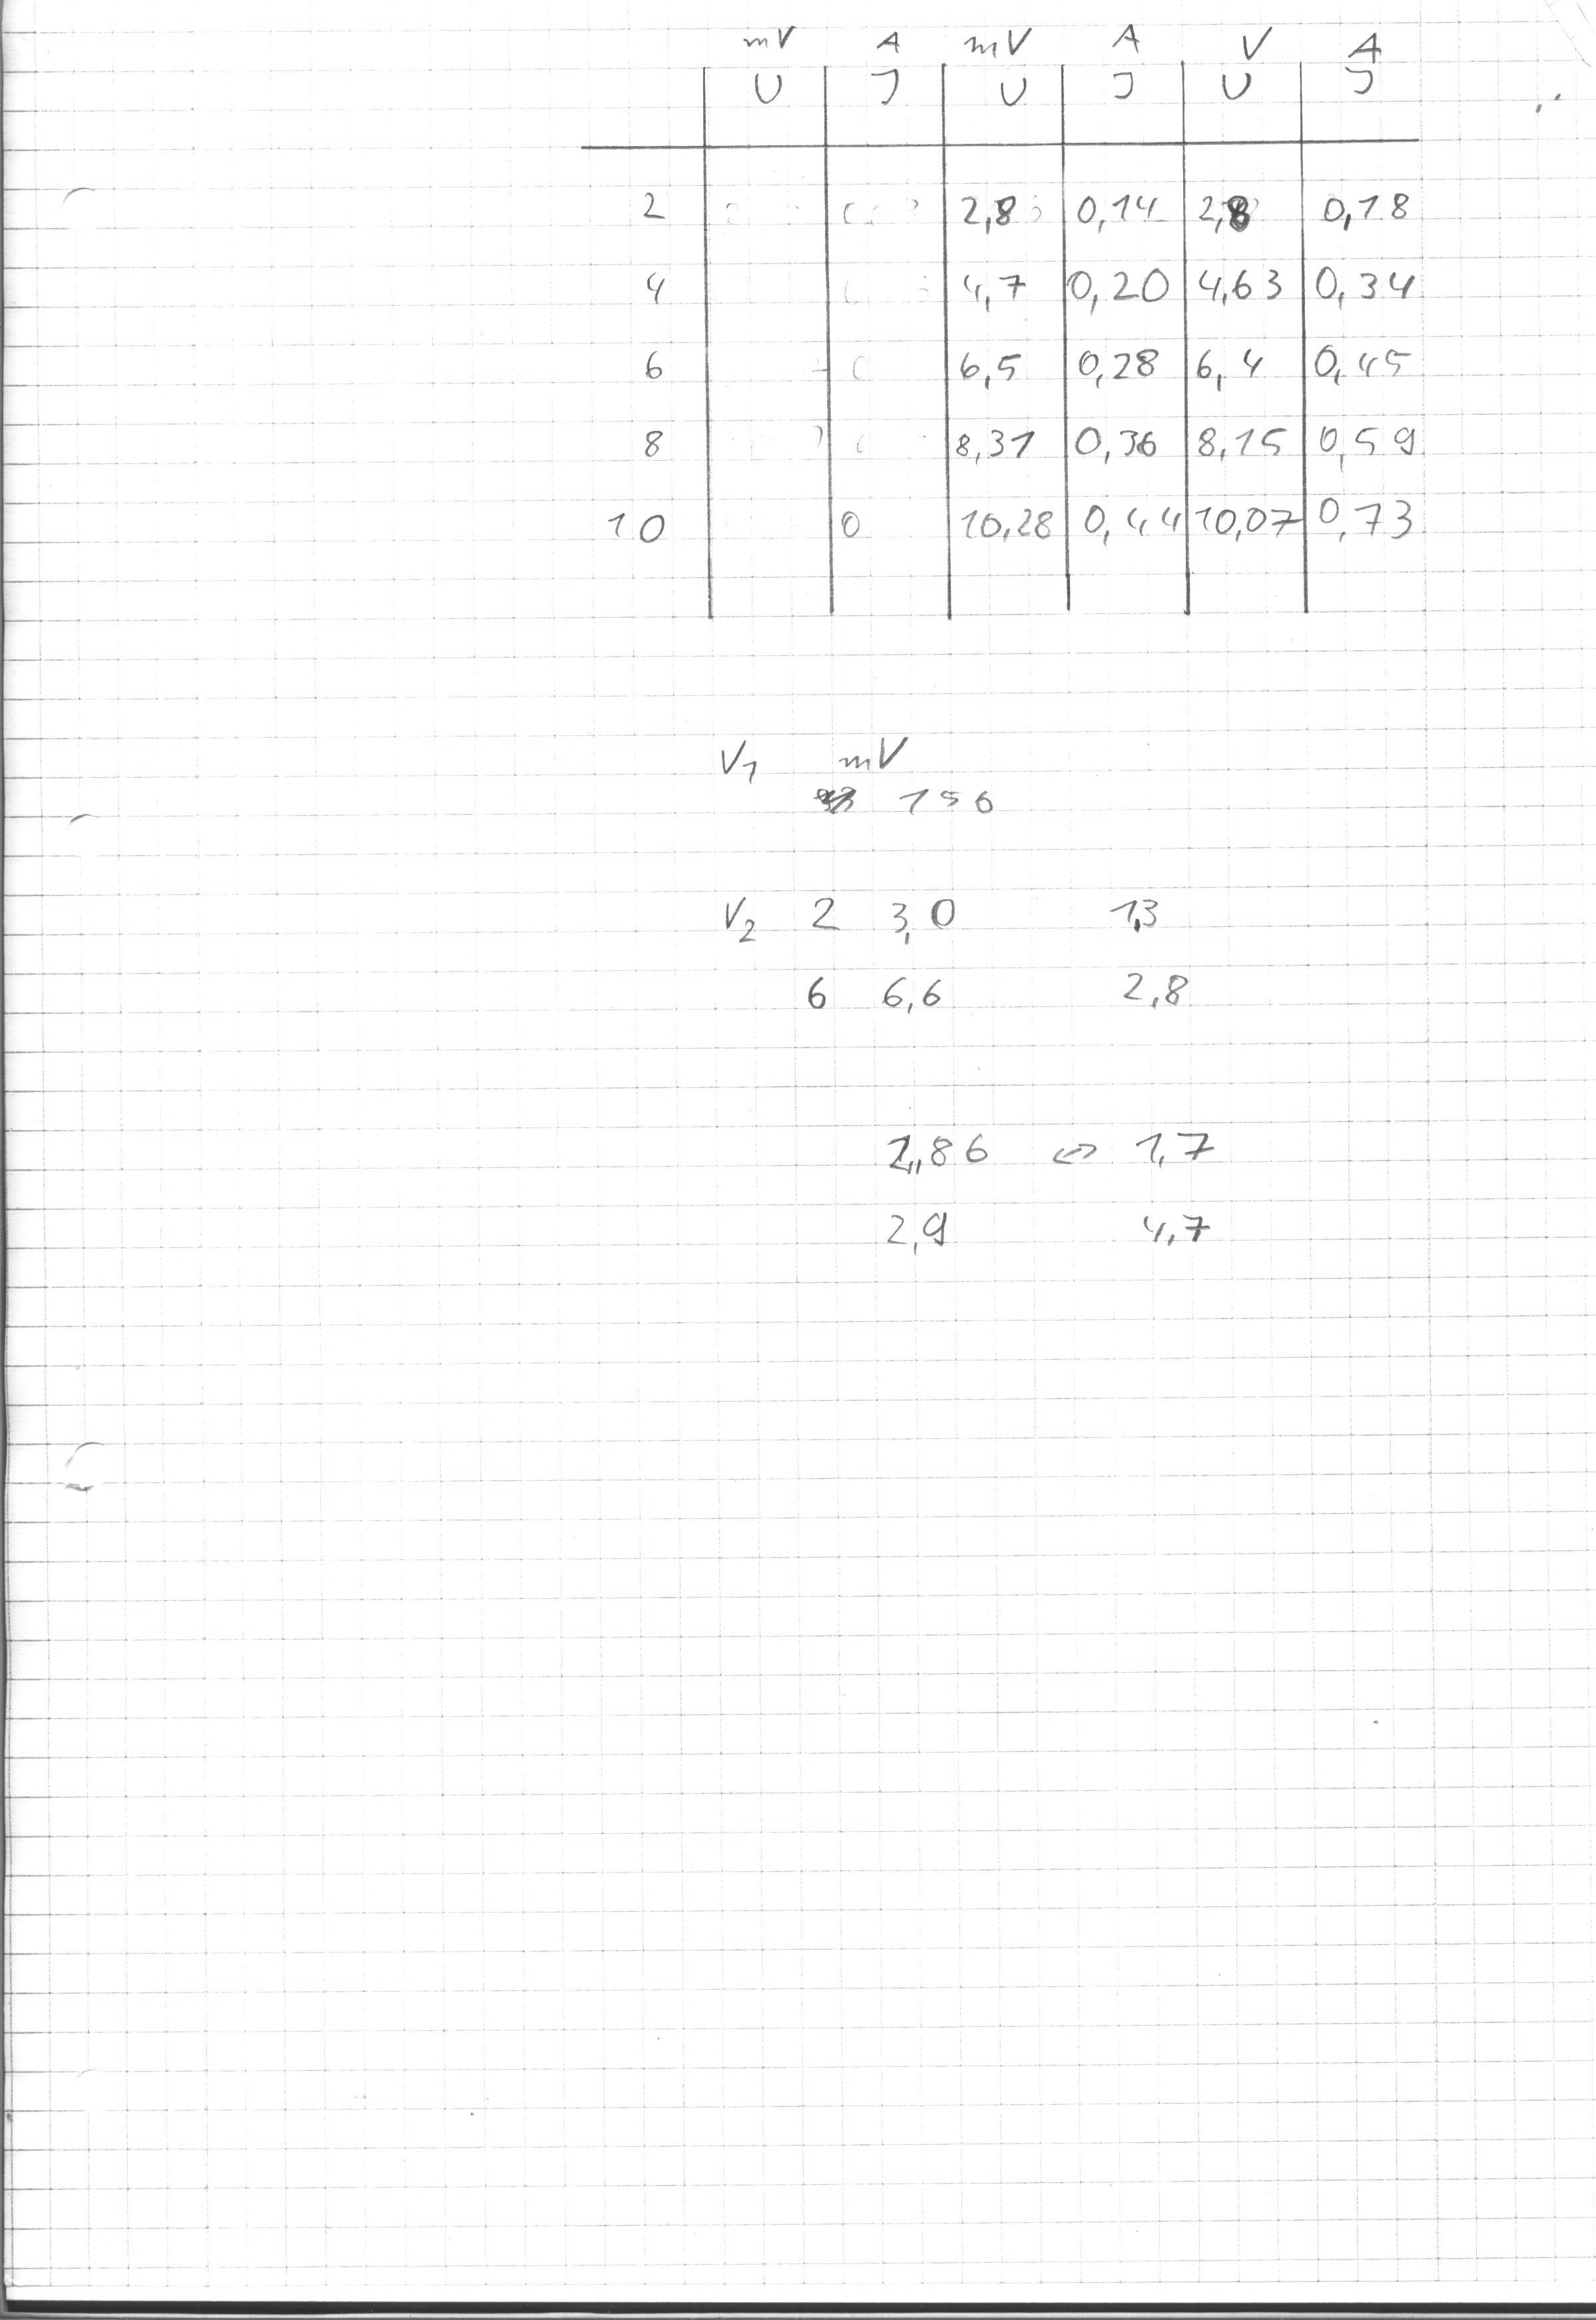word: (924, 170, 1444, 573), (860, 1111, 1220, 1267), (698, 878, 972, 1028), (697, 715, 1012, 832), (1079, 870, 1200, 1031)
